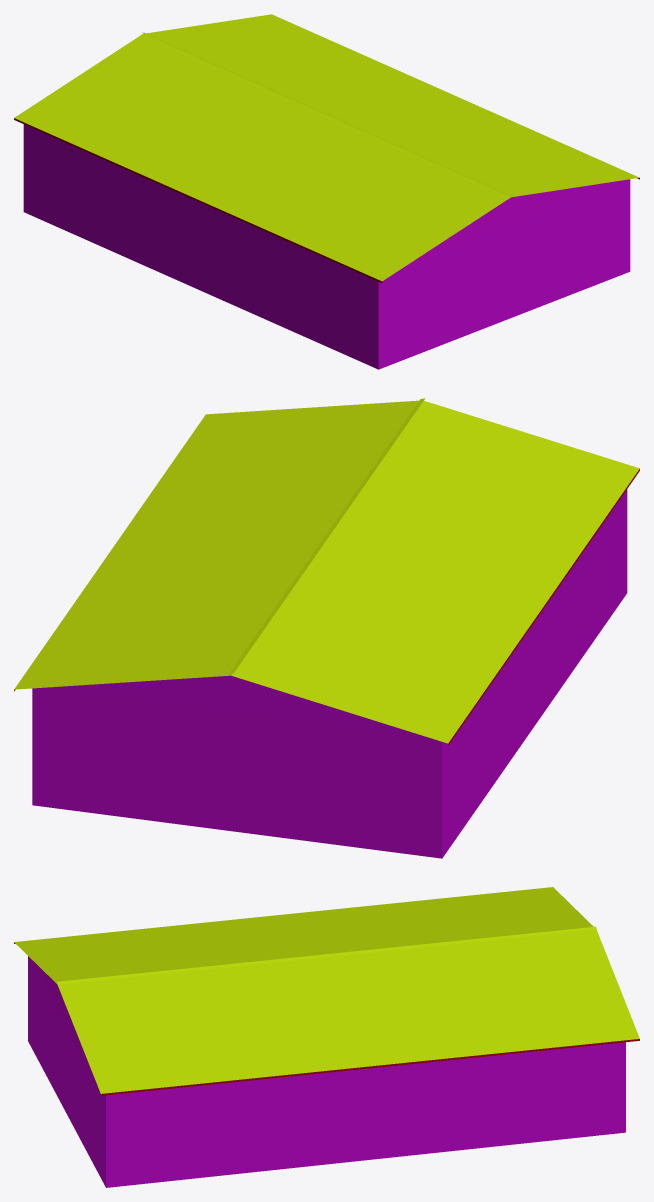
Rendered from scl_91.glb.
3 views of the same model, one above another, from view 1: azimuth 30°, elevation 25°; view 2: azimuth 150°, elevation 25°; view 3: azimuth 270°, elevation 25° (orthographic). The views are drawn at different scales.
Parts seen in each view (by area): view 1: scl_91; view 2: scl_91; view 3: scl_91.
Part boxes in pixels (x1=…): scl_91: x1=14, y1=14, x2=639, y2=369; scl_91: x1=14, y1=398, x2=639, y2=858; scl_91: x1=14, y1=887, x2=639, y2=1187.
Size of the model in its own units: 27.56 by 8.27 by 35.24.
